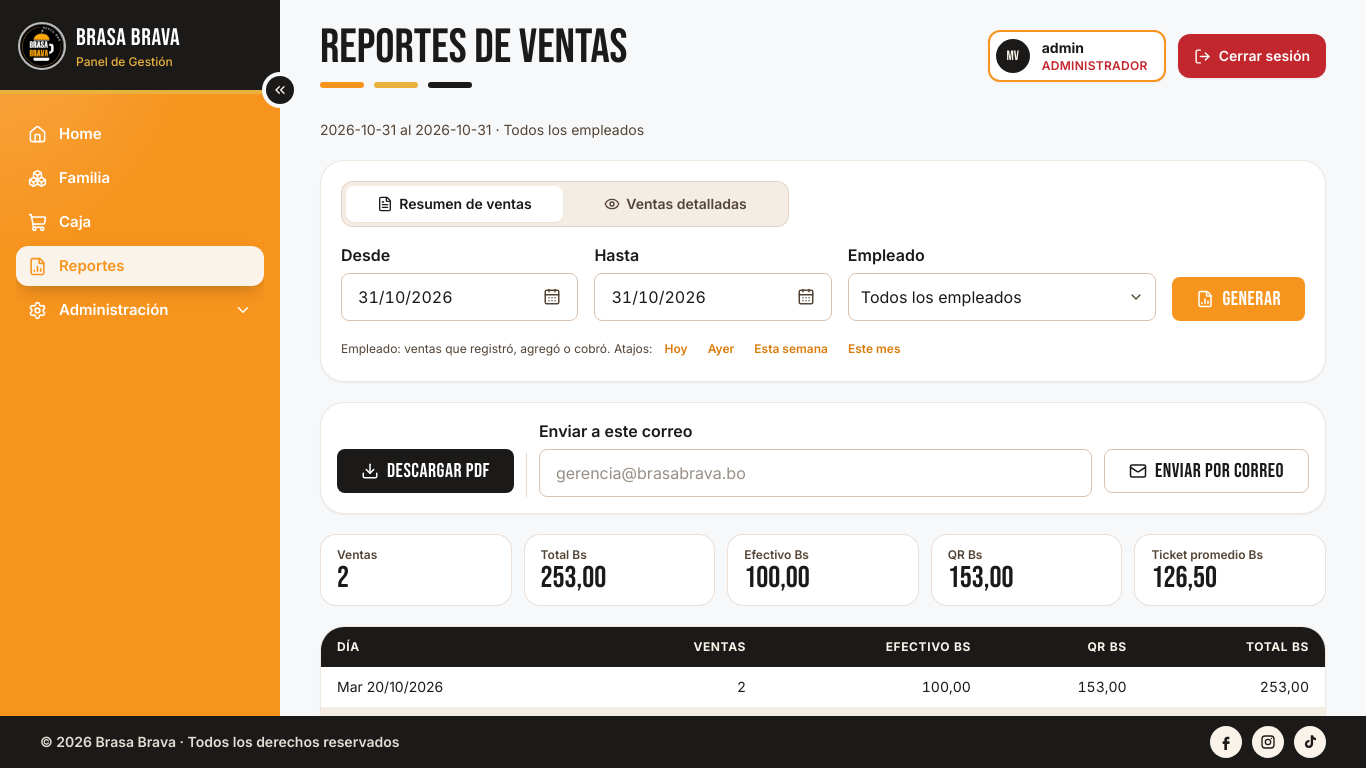
Test case: Reportes de ventas › filtra por empleado y por atajos de período
Expected: the element named "Totales del período" is shown, x1=320 y1=534 x2=1326 y2=606
Select "Andrea Romero (a.romero)" in the dropdown labelled "Empleado". click: (1002, 297)
box: x1=848 y1=273 x2=1156 y2=321
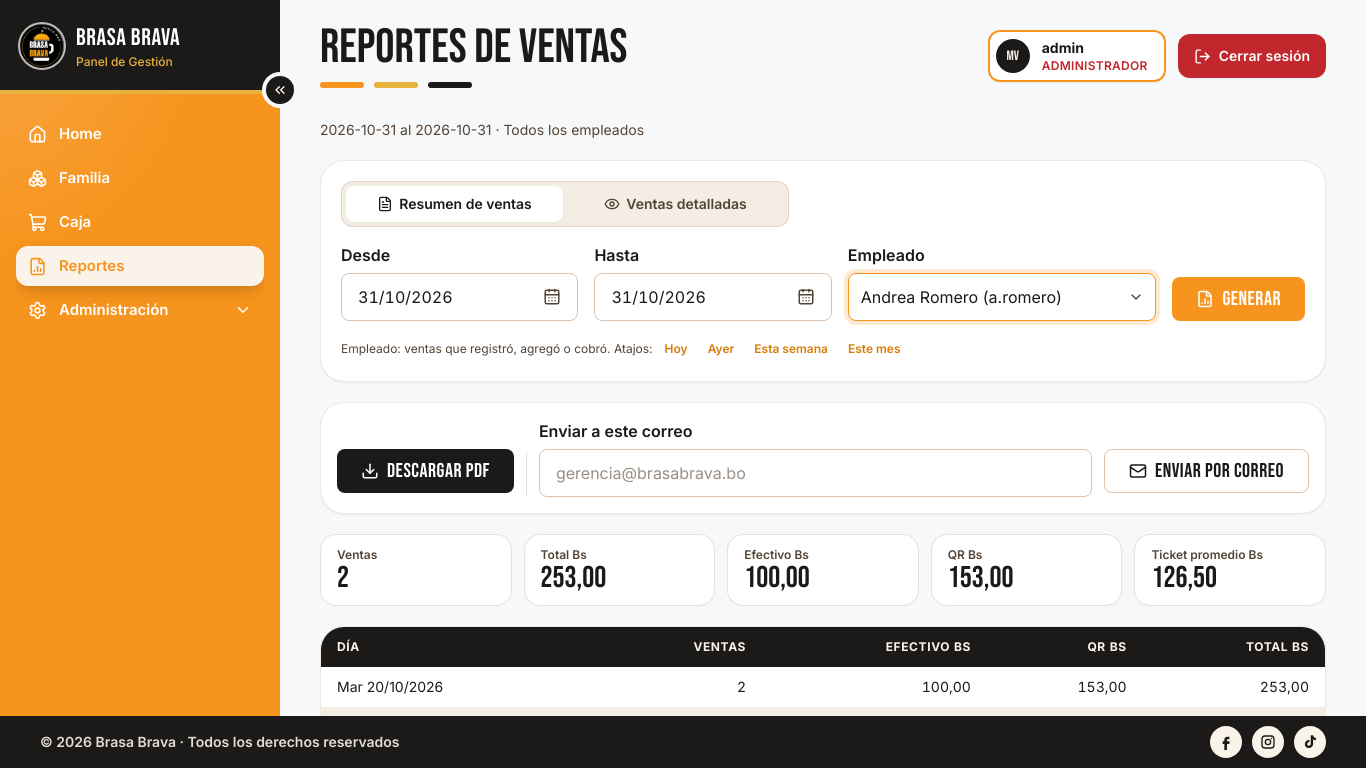
Click the button "Este mes". click: (874, 349)
box: x1=840 y1=337 x2=909 y2=361
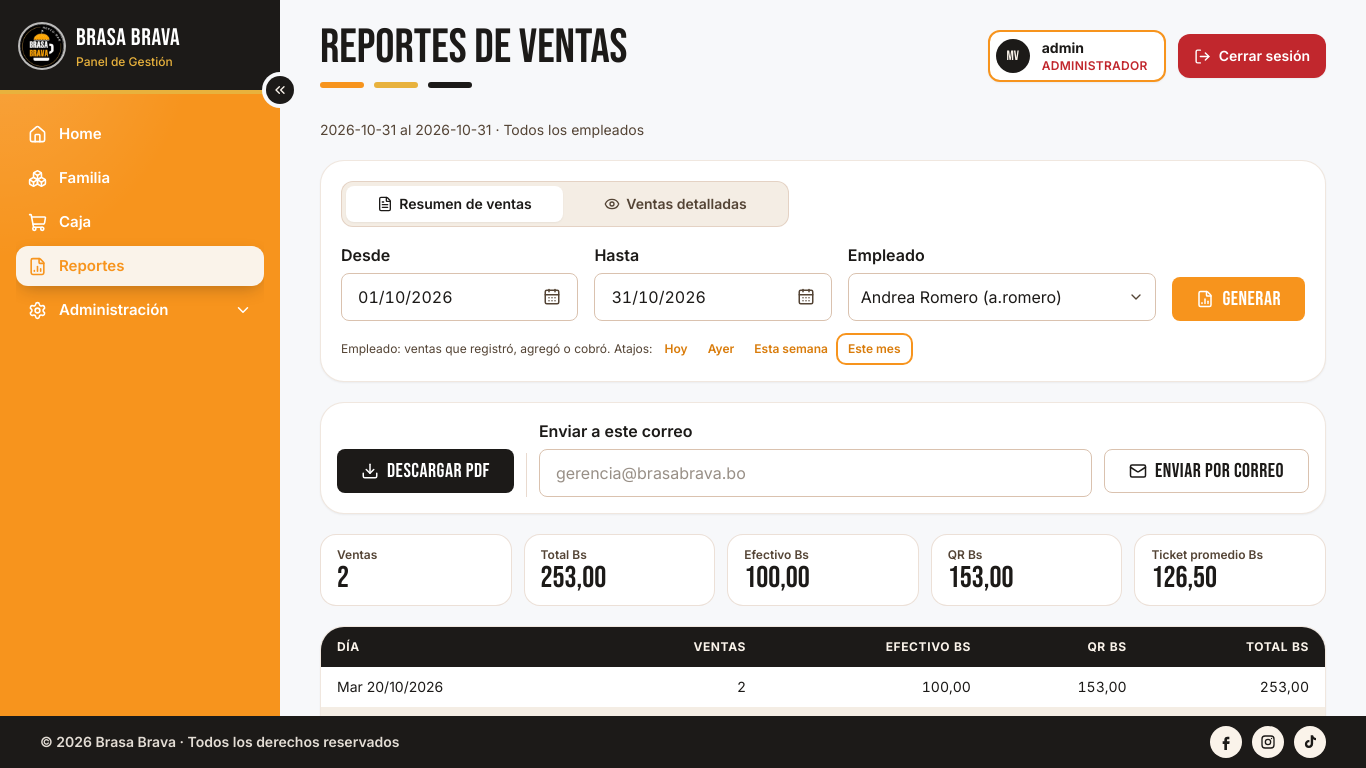
Click the button "Generar". click: (1239, 299)
box: x1=1172 y1=277 x2=1305 y2=321
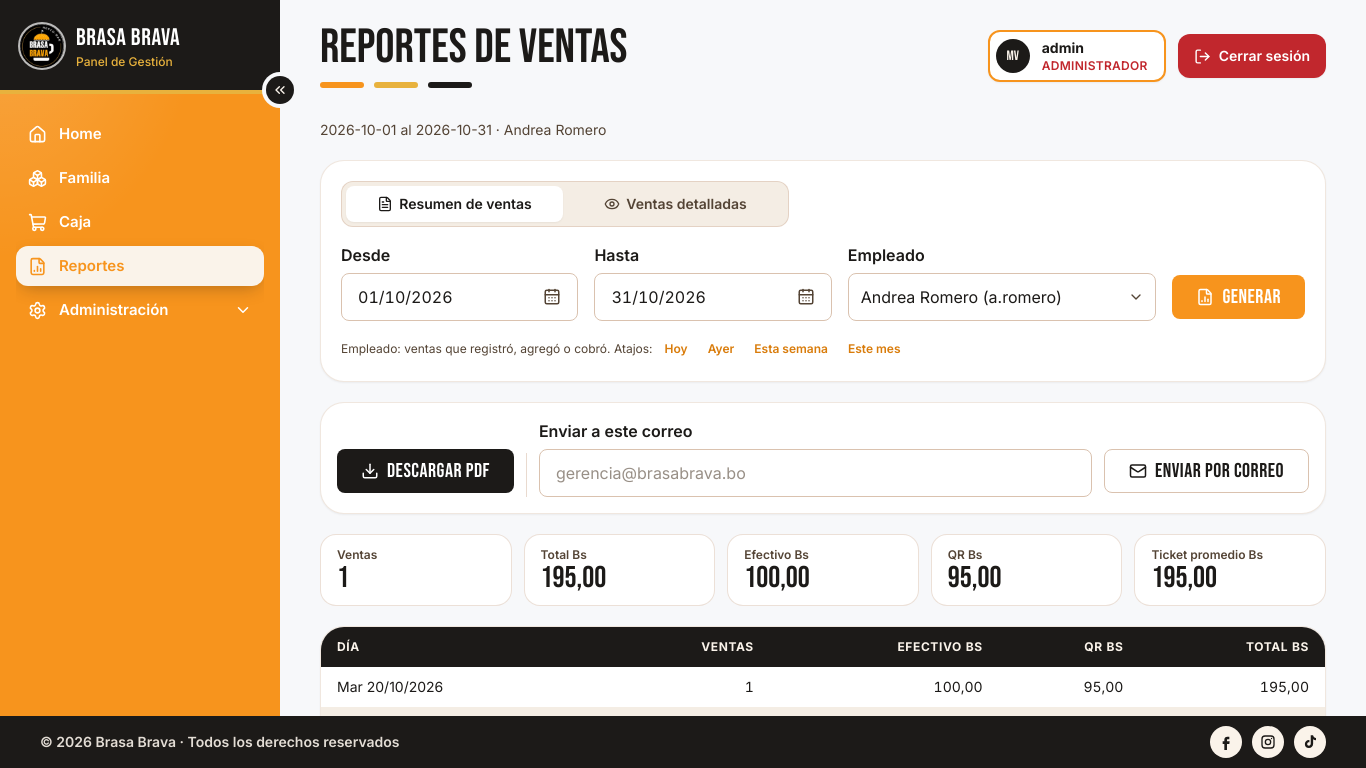
Expected: the text "2026-10-01 al 2026-10-31 · Andrea Romero" is shown, x1=320 y1=120 x2=606 y2=140
